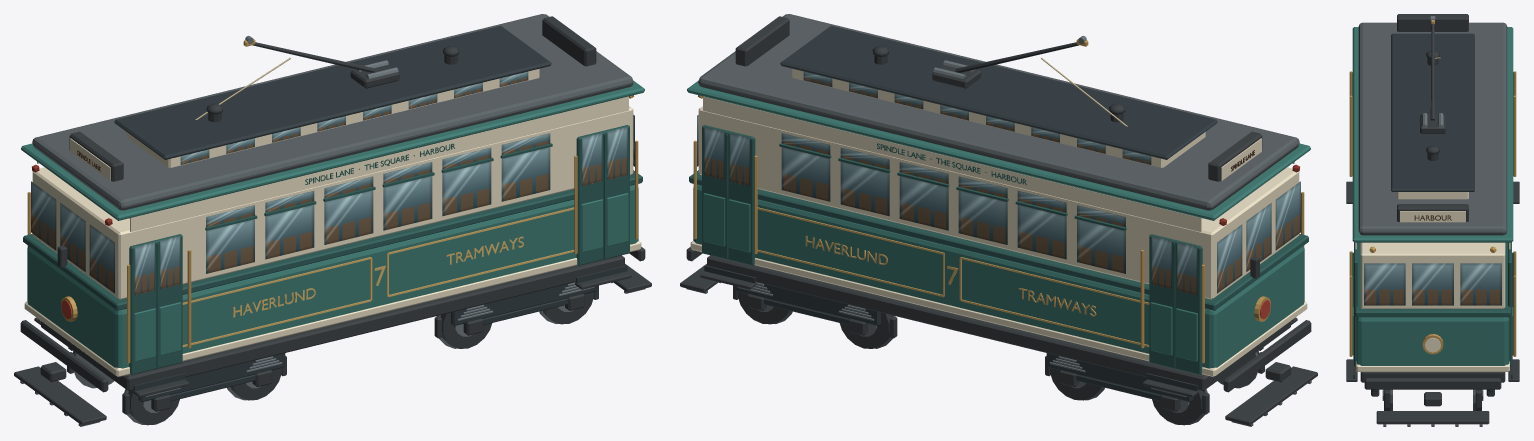
3 views of the same model, side by side, from view 1: azimuth 30°, elevation 25°; view 2: azimuth 150°, elevation 25°; view 3: azimuth 270°, elevation 25° (orthographic). The views are drawn at different scales.
Parts seen in each view (by area): view 1: lane_teal, lane_enamel_cream, lane_window_tram, lane_steel_dark, lane_iron_light, lane_iron, lane_teal_dark, lane_gold, lane_brass, lane_steel; view 2: lane_teal, lane_enamel_cream, lane_window_tram, lane_steel_dark, lane_iron_light, lane_iron, lane_teal_dark, lane_gold, lane_brass, lane_steel; view 3: lane_iron_light, lane_steel_dark, lane_teal, lane_iron, lane_enamel_cream, lane_window_tram, lane_teal_dark, lane_brass, lane_steel.
Part boxes in pixels (x1=…): lane_teal: x1=21, y1=80, x2=644, y2=368; lane_enamel_cream: x1=24, y1=68, x2=641, y2=376; lane_window_tram: x1=31, y1=71, x2=634, y2=295; lane_steel_dark: x1=38, y1=25, x2=627, y2=401; lane_iron_light: x1=20, y1=14, x2=645, y2=426; lane_iron: x1=14, y1=16, x2=651, y2=425; lane_teal_dark: x1=23, y1=125, x2=642, y2=374; lane_gold: x1=182, y1=207, x2=574, y2=347; lane_brass: x1=27, y1=39, x2=638, y2=363; lane_steel: x1=142, y1=35, x2=594, y2=412; lane_teal: x1=687, y1=80, x2=1310, y2=368; lane_enamel_cream: x1=690, y1=68, x2=1307, y2=376; lane_window_tram: x1=697, y1=71, x2=1300, y2=295; lane_steel_dark: x1=704, y1=25, x2=1293, y2=401; lane_iron_light: x1=686, y1=14, x2=1311, y2=426; lane_iron: x1=680, y1=16, x2=1317, y2=425; lane_teal_dark: x1=689, y1=125, x2=1308, y2=374; lane_gold: x1=757, y1=207, x2=1149, y2=347; lane_brass: x1=693, y1=39, x2=1304, y2=363; lane_steel: x1=737, y1=35, x2=1189, y2=412; lane_iron_light: x1=1358, y1=22, x2=1507, y2=426; lane_steel_dark: x1=1353, y1=33, x2=1512, y2=391; lane_teal: x1=1352, y1=27, x2=1513, y2=365; lane_iron: x1=1346, y1=14, x2=1519, y2=424; lane_enamel_cream: x1=1355, y1=192, x2=1510, y2=371; lane_window_tram: x1=1364, y1=263, x2=1501, y2=305; lane_teal_dark: x1=1352, y1=73, x2=1513, y2=366; lane_brass: x1=1349, y1=20, x2=1516, y2=356; lane_steel: x1=1382, y1=16, x2=1483, y2=400.
Bounding box in the file's own units: 6.82 × 3.84 × 2.16.
Materials: 15 (1 with a texture image).
